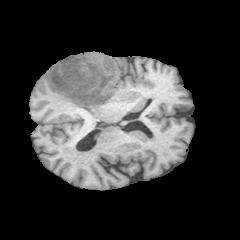glioma: (49, 52, 118, 109)
